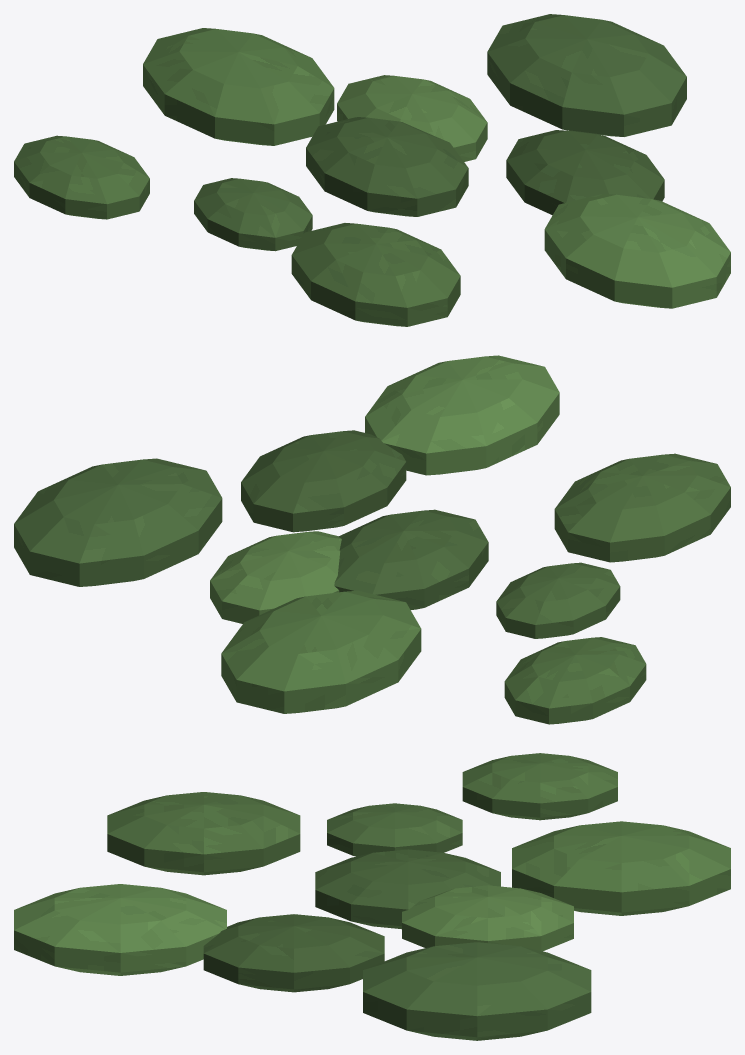
The model's file is seed_sunflower.glb.
The picture shows the model from 3 angles, top to bottom: view 1: azimuth 30°, elevation 25°; view 2: azimuth 150°, elevation 25°; view 3: azimuth 270°, elevation 25°; orthographic projection. The views are drawn at different scales.
Parts seen in each view (by area): view 1: block_grain 6, block_grain 4, block_grain 8, block_grain 5, block_grain 0, block_grain 3, block_grain 7, block_grain 1, block_grain 2; view 2: block_grain 6, block_grain 4, block_grain 8, block_grain 5, block_grain 3, block_grain 0, block_grain 7, block_grain 1, block_grain 2; view 3: block_grain 6, block_grain 4, block_grain 8, block_grain 5, block_grain 3, block_grain 0, block_grain 1, block_grain 7, block_grain 2.
Boxes of the visible parts, box(x1,y1,x2,y2) form: block_grain 6: box(487, 14, 686, 136); block_grain 4: box(143, 28, 334, 145); block_grain 8: box(544, 194, 730, 308); block_grain 5: box(291, 223, 460, 326); block_grain 0: box(306, 117, 468, 216); block_grain 3: box(506, 130, 664, 215); block_grain 7: box(14, 135, 149, 219); block_grain 1: box(337, 75, 487, 161); block_grain 2: box(194, 178, 312, 251); block_grain 6: box(14, 458, 222, 586); block_grain 4: box(221, 590, 421, 713); block_grain 8: box(365, 355, 559, 475); block_grain 5: box(554, 453, 730, 562); block_grain 3: box(241, 430, 406, 532); block_grain 0: box(334, 509, 488, 609); block_grain 7: box(504, 637, 646, 724); block_grain 1: box(210, 531, 341, 623); block_grain 2: box(496, 562, 620, 638); block_grain 6: box(363, 942, 591, 1040); block_grain 4: box(512, 821, 730, 915); block_grain 8: box(14, 884, 226, 975); block_grain 5: box(107, 792, 300, 875); block_grain 3: box(203, 914, 384, 992); block_grain 0: box(315, 849, 500, 929); block_grain 1: box(402, 885, 573, 951); block_grain 7: box(462, 753, 617, 820); block_grain 2: box(327, 803, 462, 856).
Bounding box in the file's own units: 0.0632 × 0.00732 × 0.0696.
Materials: 1 (1 with a texture image).
